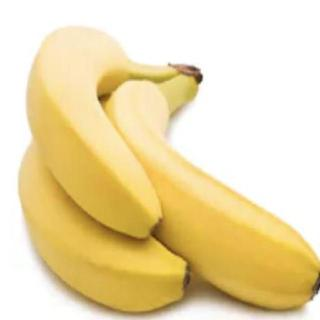banana: (98, 71, 320, 313), (16, 82, 192, 314), (24, 23, 182, 244)
